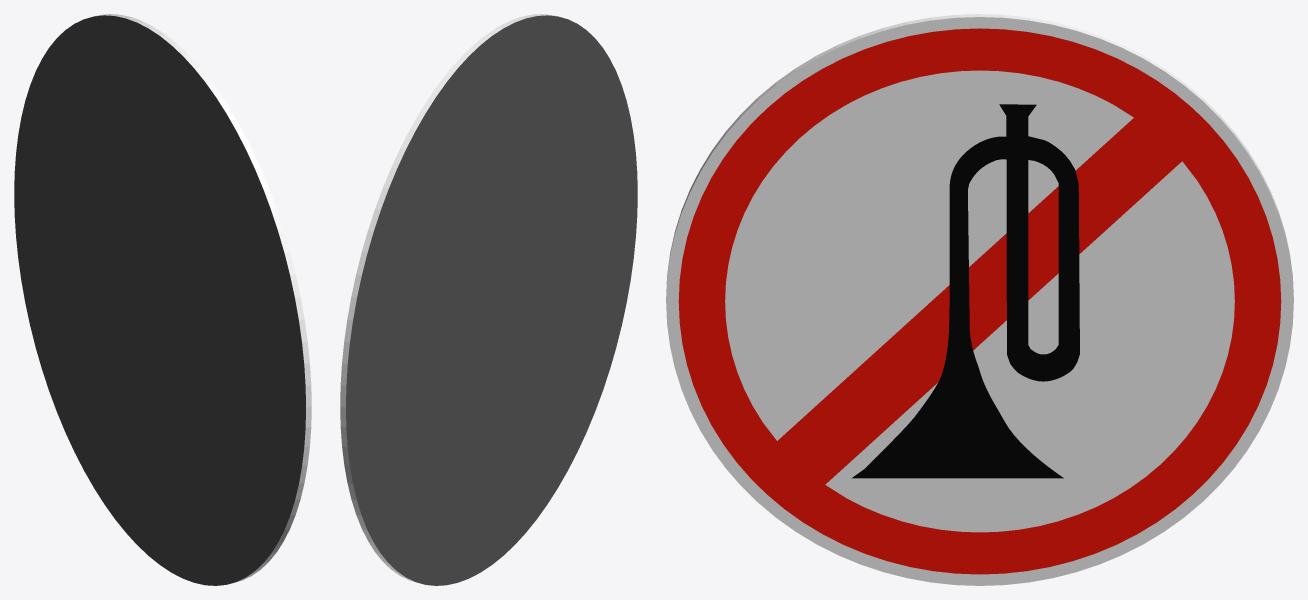
The model's file is 禁止鸣笛.gltf.
3 views of the same model, side by side, from view 1: azimuth 30°, elevation 25°; view 2: azimuth 150°, elevation 25°; view 3: azimuth 270°, elevation 25° (orthographic). The views are drawn at different scales.
Visible parts, largest first — view 1: 圆环; view 2: 圆环; view 3: 圆环, BezierCurve.
Boxes of the visible parts, x1,y1,x2,y2 form: 圆环: (14,14,311,585); 圆环: (340,14,637,585); 圆环: (666,14,1293,585); BezierCurve: (852,104,1079,478).
Size of the model in its own units: 0.00976 by 0.8 by 0.8.
